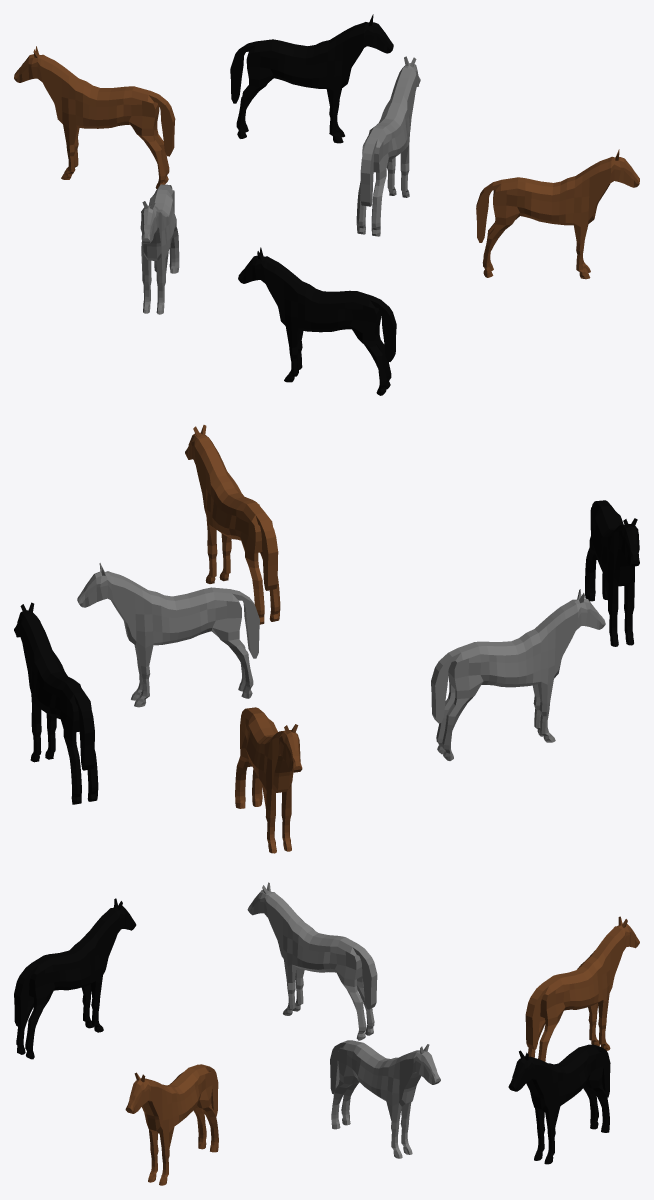
Rendered from ResCheval.fbx.
3 renders of one model, top to bottom at view 1: azimuth 30°, elevation 25°; view 2: azimuth 150°, elevation 25°; view 3: azimuth 270°, elevation 25°, orthographic. The views are drawn at different scales.
Parts seen in each view (by area): view 1: Chaval, Chaval.002, Chaval.005, Chaval.004, Chaval.001, Chaval.003; view 2: Chaval.003, Chaval.001, Chaval.004, Chaval.005, Chaval.002, Chaval; view 3: Chaval.003, Chaval, Chaval.002, Chaval.001, Chaval.005, Chaval.004.
Part boxes in pixels (<box>): Chaval: <box>238,247,396,395</box>; Chaval.002: <box>14,46,175,188</box>; Chaval.005: <box>230,14,393,143</box>; Chaval.004: <box>476,149,639,279</box>; Chaval.001: <box>356,56,420,236</box>; Chaval.003: <box>140,184,179,314</box>; Chaval.003: <box>431,589,605,760</box>; Chaval.001: <box>77,563,259,707</box>; Chaval.004: <box>185,425,280,624</box>; Chaval.005: <box>14,602,98,804</box>; Chaval.002: <box>235,707,302,853</box>; Chaval: <box>585,500,639,646</box>; Chaval.003: <box>247,882,377,1040</box>; Chaval: <box>14,898,136,1059</box>; Chaval.002: <box>525,916,639,1061</box>; Chaval.001: <box>330,1040,440,1158</box>; Chaval.005: <box>508,1044,610,1164</box>; Chaval.004: <box>125,1064,218,1185</box>.
Bounding box in the file's own units: 687 × 189 × 889.
